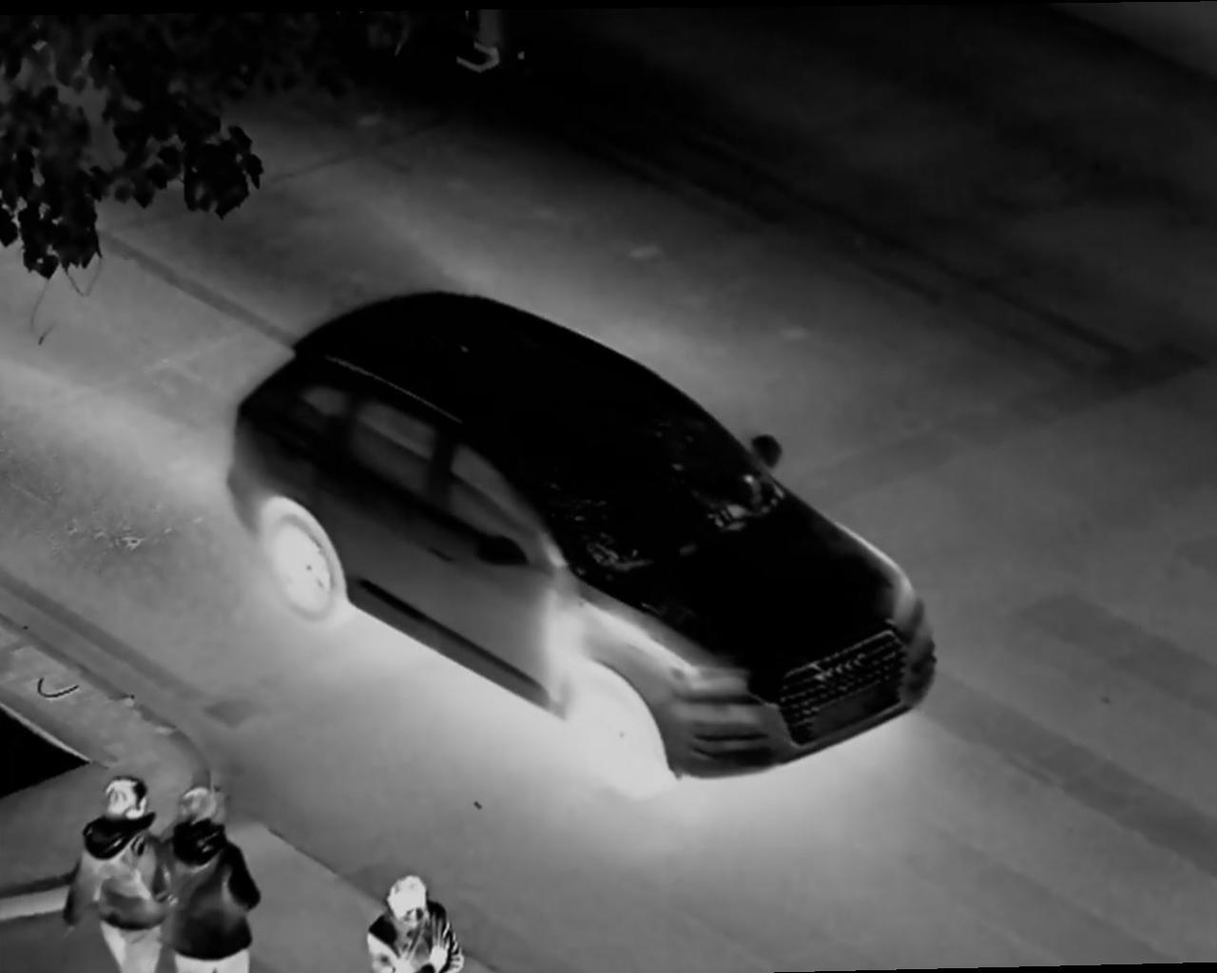person: (59, 767, 163, 973), (160, 787, 267, 973), (353, 871, 473, 973)
